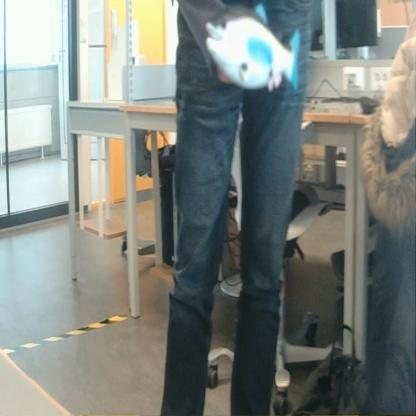rubberfish: (200, 2, 302, 99)
